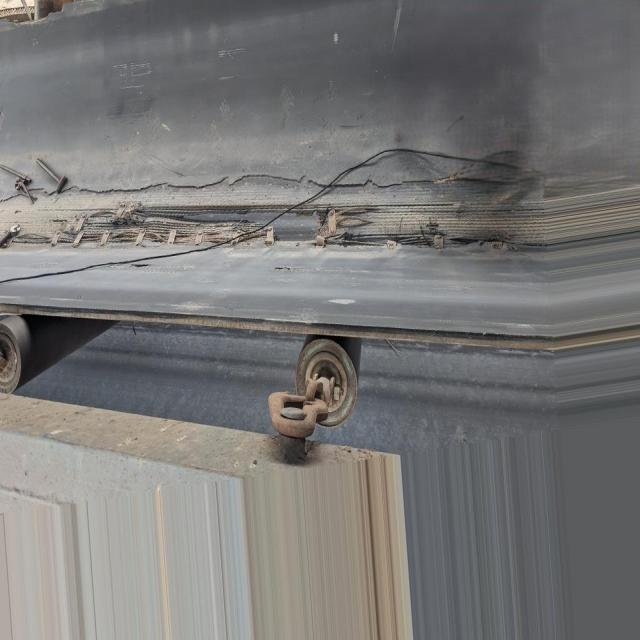Tear: (0, 182, 538, 263)
